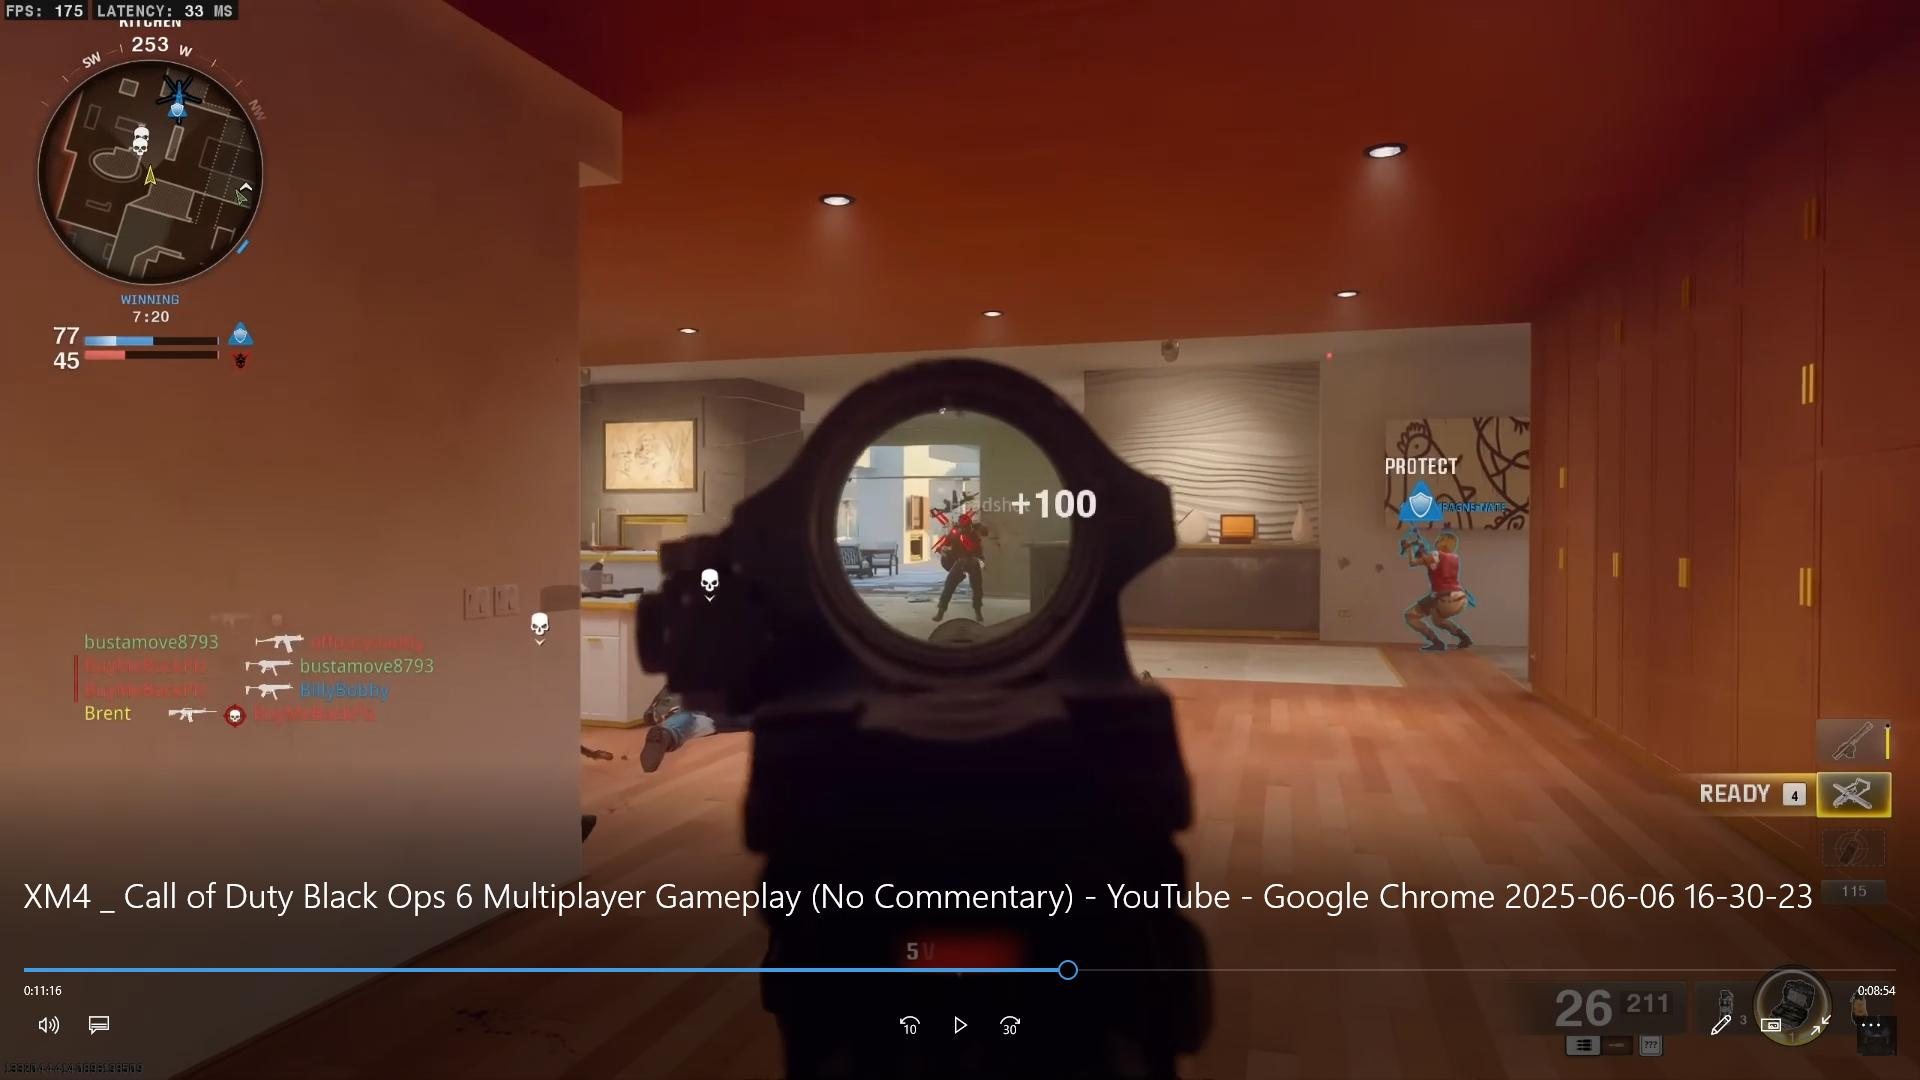Enemy: (931, 508, 994, 621)
